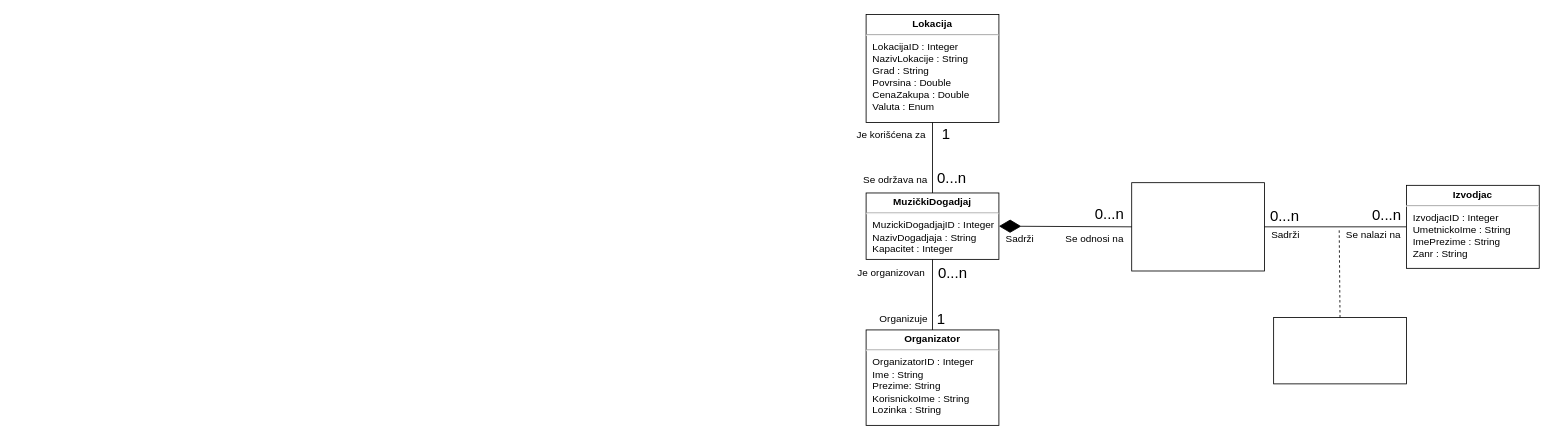
This 1554x440 diagram has some shape labels left out. The shapes that lost their labels are listed below. From the top down, each one's centre as x and y in pixels, then its label:
point 1198,226: Bina RB : int Naziv : String Sponzor : String VIPzona : Bool AudioSistem : Enum
point 1339,350: Nastupa NastupID : Integer PocetakNastupa : Date KrajNastupa : Date
